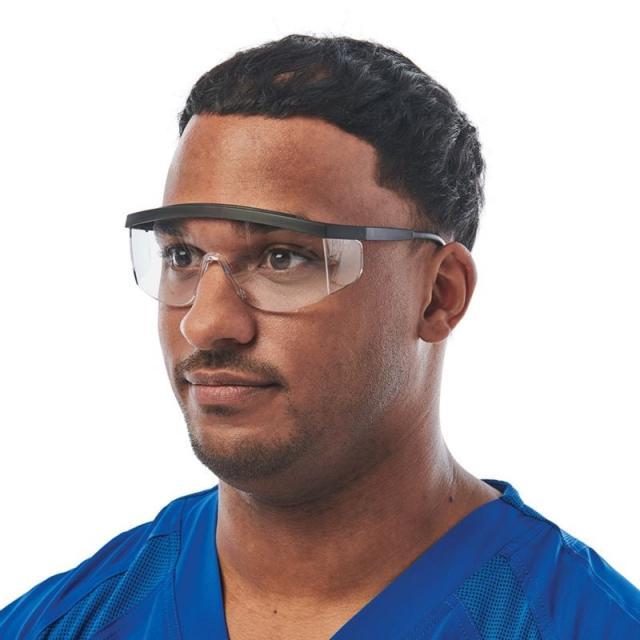Protective Glasses: (112, 194, 470, 319)
